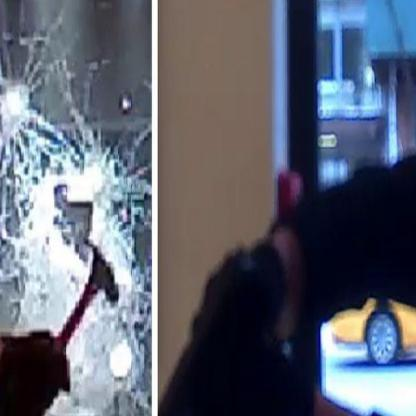gun: (163, 210, 293, 415)
